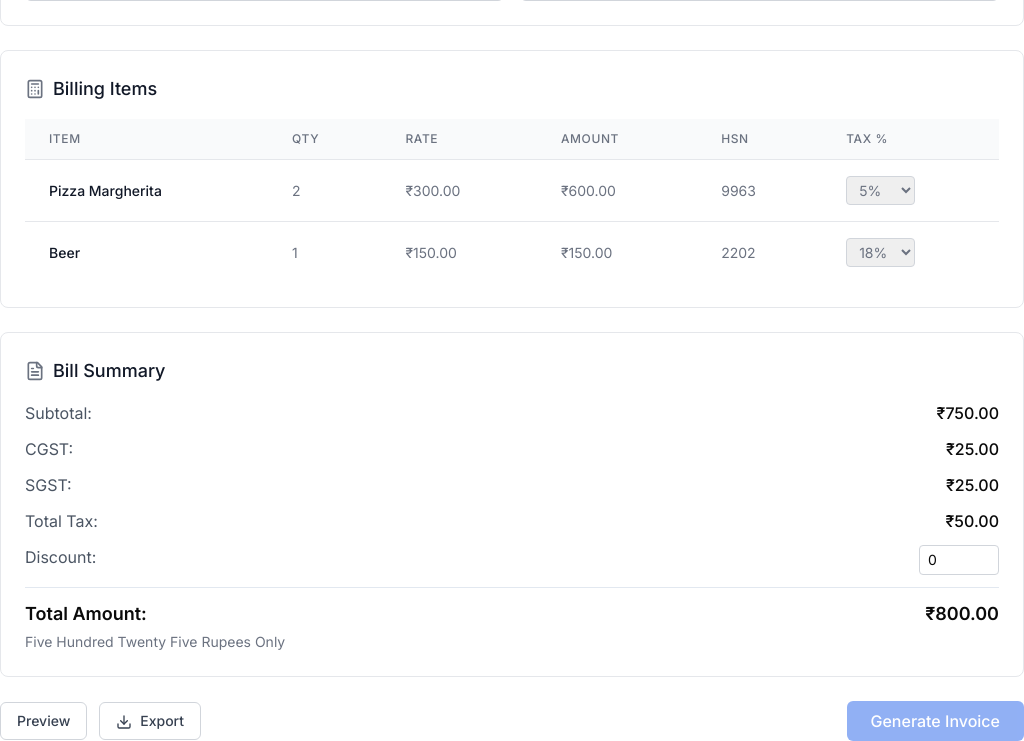
GSTBillingForm › should close invoice preview modal when close button is clicked
(page scrolled)
# Open preview modal
Click the button "Preview".
click(44, 721)  # box [0, 702, 87, 740]
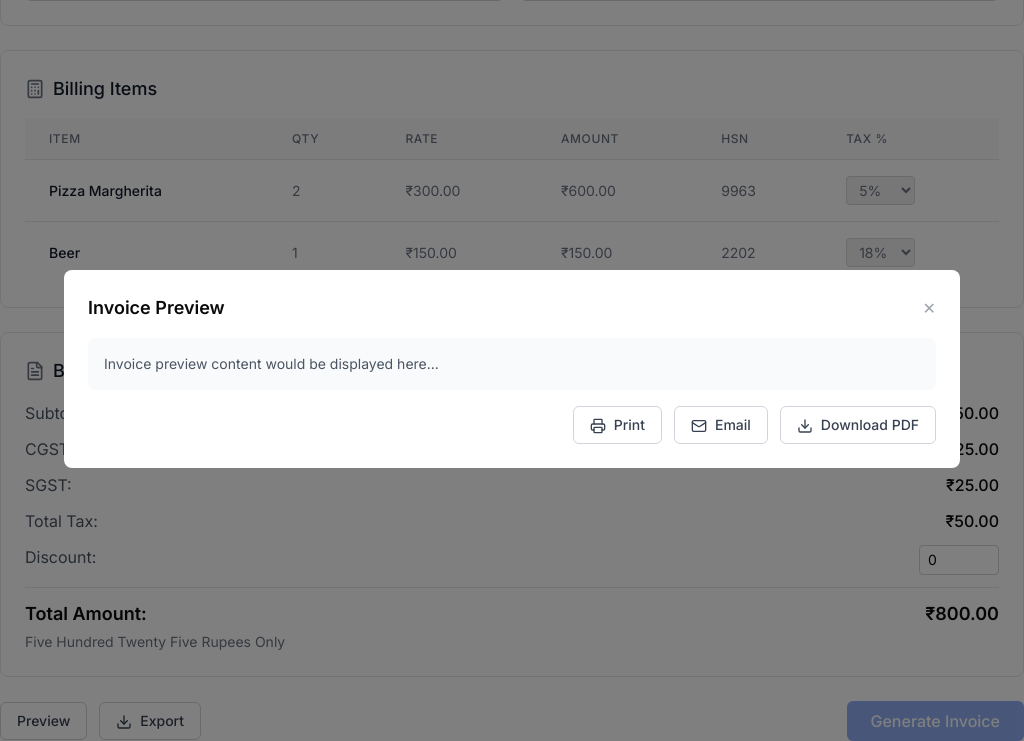
Now the heading "Invoice Preview" is shown, box [88, 294, 225, 322]
# Close modal
Click the button "✕".
click(929, 308)  # box [923, 296, 936, 320]
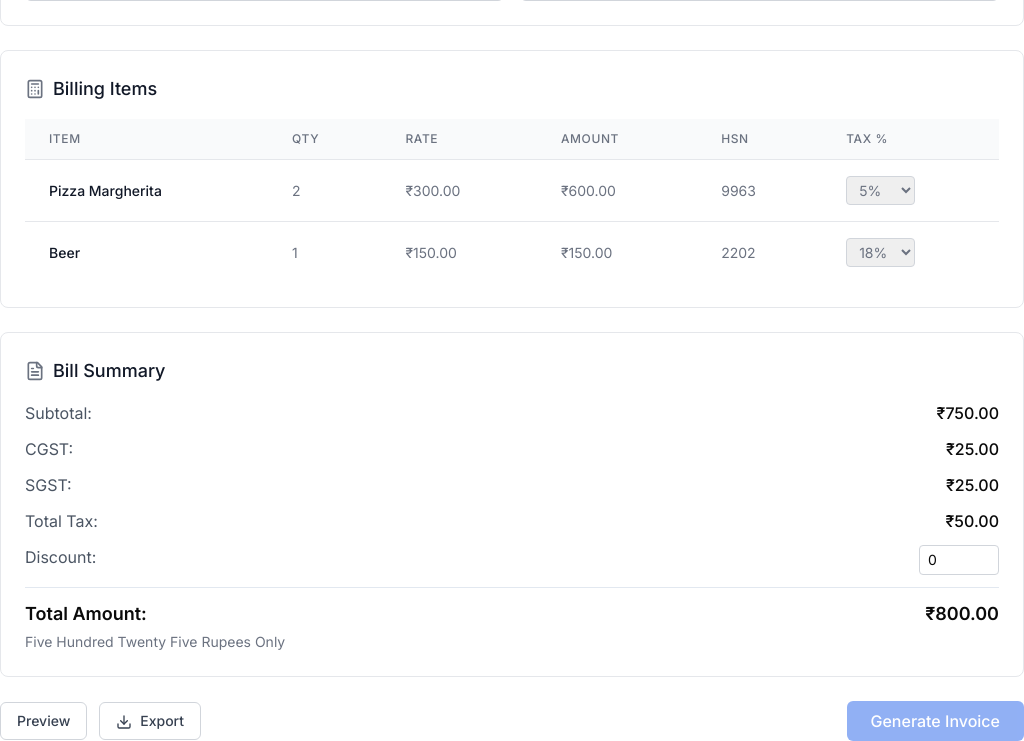
Now the heading "Invoice Preview" is gone
